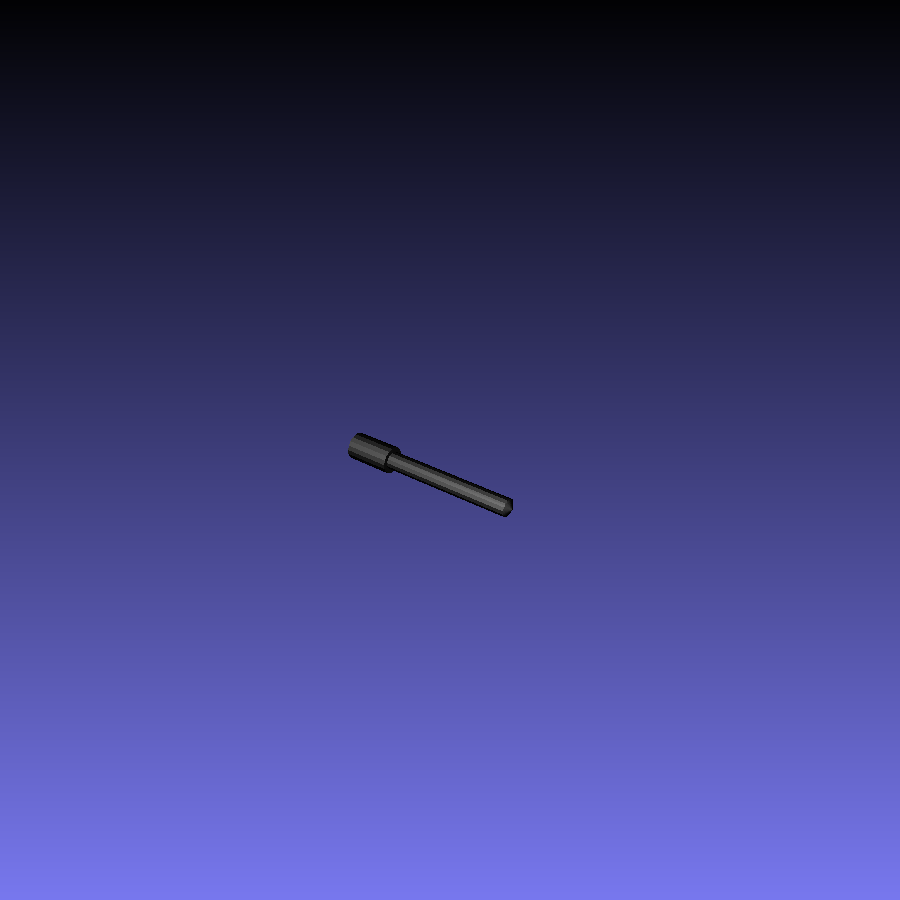cargo_g: (344, 431, 517, 520)
